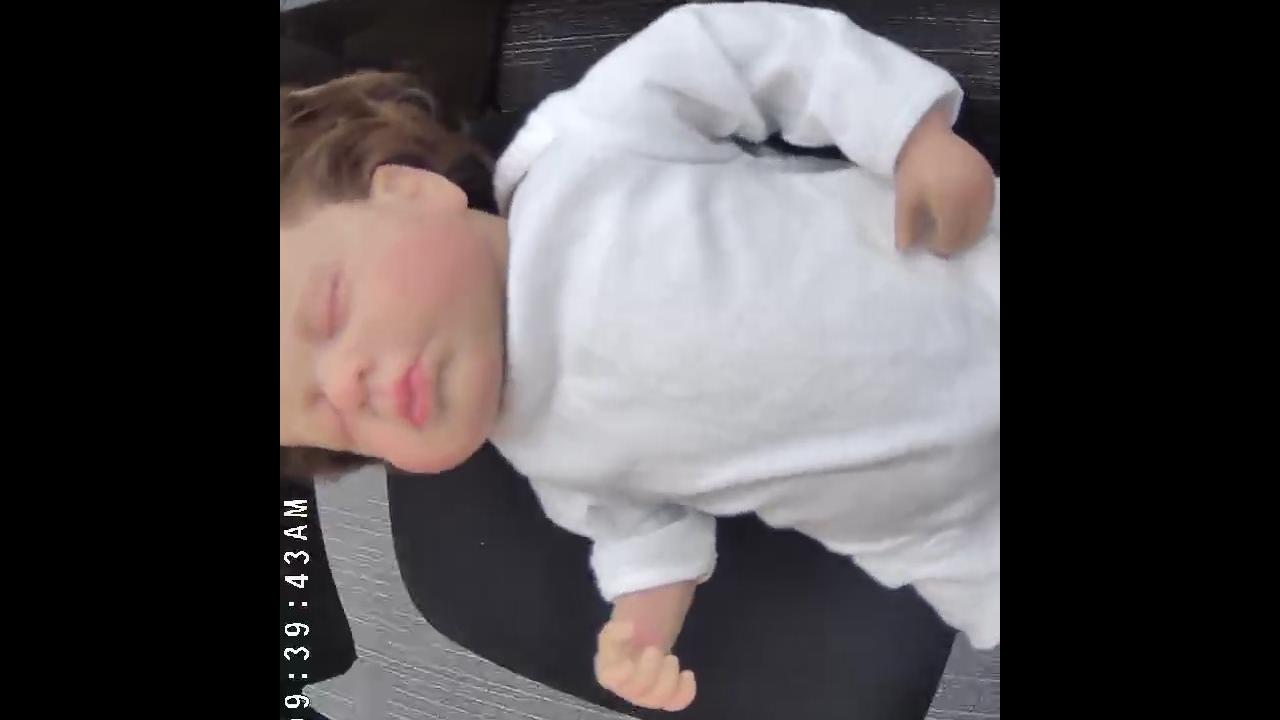hand: (592, 614, 700, 710)
